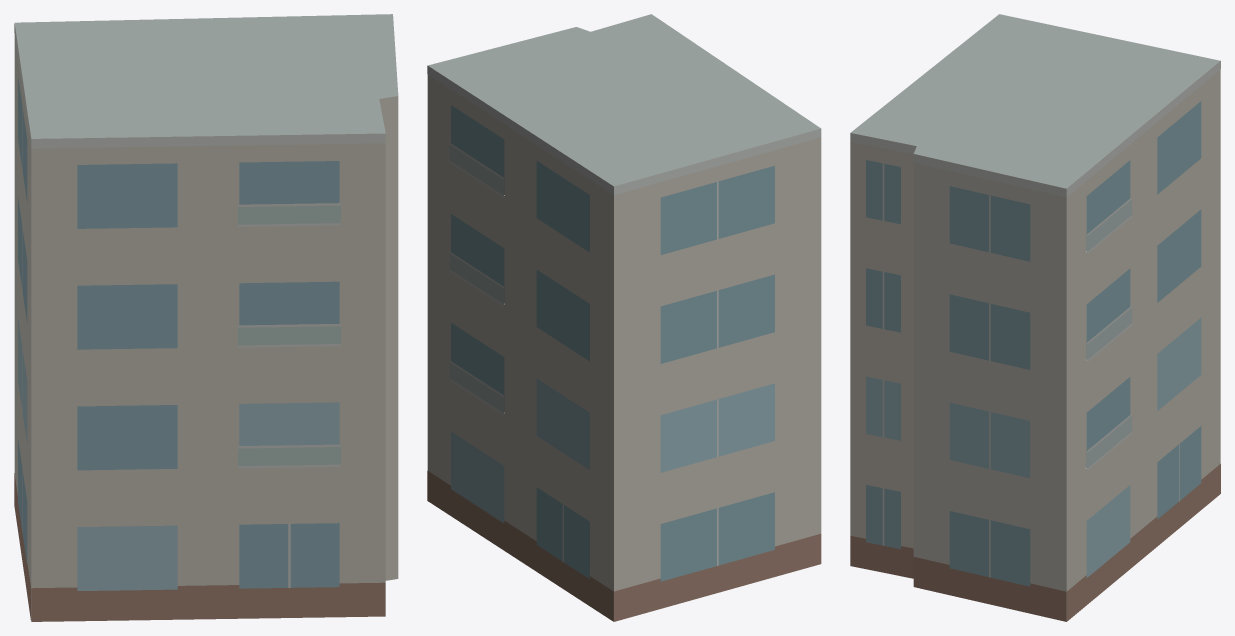
Rendered from survey-upis-32725439.glb.
3 views of the same model, side by side, from view 1: azimuth 30°, elevation 25°; view 2: azimuth 150°, elevation 25°; view 3: azimuth 270°, elevation 25° (orthographic). The views are drawn at different scales.
Visible parts, largest first — view 1: survey-upis-32725439.tmp; view 2: survey-upis-32725439.tmp; view 3: survey-upis-32725439.tmp.
Part boxes in pixels (bbox=[...]): survey-upis-32725439.tmp: bbox=[14, 14, 398, 621]; survey-upis-32725439.tmp: bbox=[427, 14, 821, 621]; survey-upis-32725439.tmp: bbox=[850, 14, 1220, 621].
Size of the model in its own units: 10.57 by 12.2 by 9.46.
